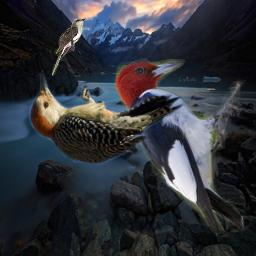Cuckoo: (52, 18, 86, 76)
Woodpecker: (111, 54, 251, 237), (17, 67, 192, 166)
